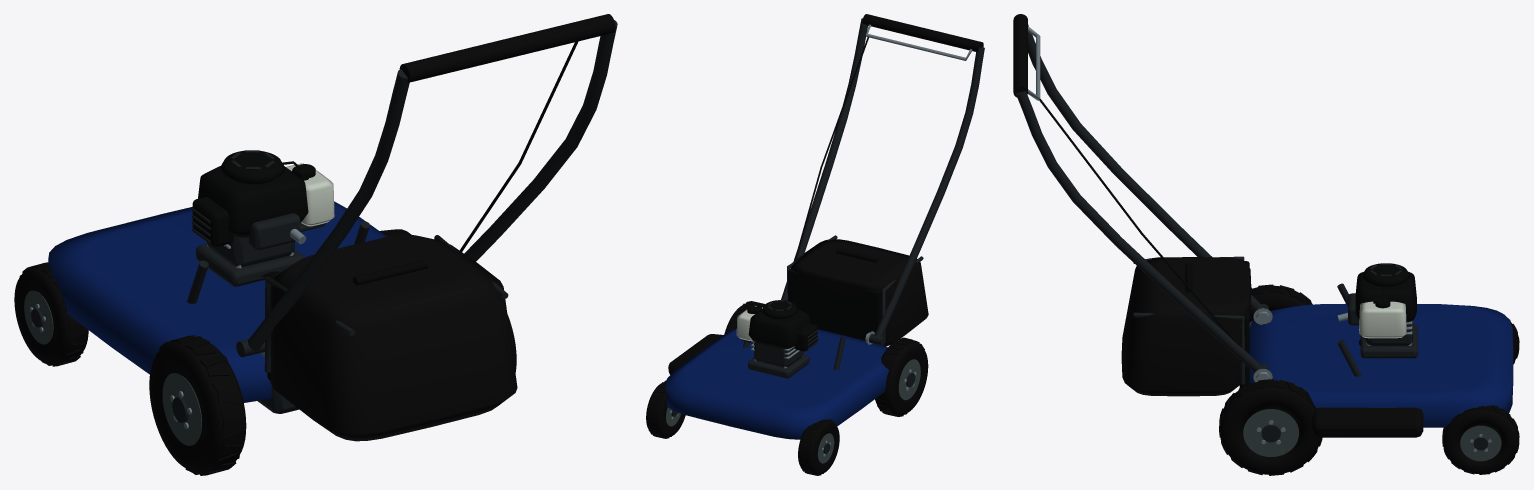
The model's file is SelfPropelledMower.gltf.
The picture shows the model from 3 angles, left to right: view 1: azimuth 30°, elevation 25°; view 2: azimuth 150°, elevation 25°; view 3: azimuth 270°, elevation 25°; orthographic projection. The views are drawn at different scales.
Visible parts, largest first — view 1: SelfPropelledMower__Body, SelfPropelledMower__Wheel_Rear_L, SelfPropelledMower__Wheel_Front_L; view 2: SelfPropelledMower__Body, SelfPropelledMower__Wheel_Rear_L, SelfPropelledMower__Wheel_Front_L, SelfPropelledMower__Wheel_Front_R; view 3: SelfPropelledMower__Body, SelfPropelledMower__Wheel_Rear_R, SelfPropelledMower__Wheel_Front_R, SelfPropelledMower__Wheel_Rear_L.
Boxes of the visible parts, x1,y1,x2,y2 form: SelfPropelledMower__Body: [48, 14, 617, 441]; SelfPropelledMower__Wheel_Rear_L: [149, 335, 246, 475]; SelfPropelledMower__Wheel_Front_L: [14, 262, 88, 366]; SelfPropelledMower__Body: [665, 14, 984, 439]; SelfPropelledMower__Wheel_Rear_L: [875, 338, 928, 416]; SelfPropelledMower__Wheel_Front_L: [798, 419, 839, 475]; SelfPropelledMower__Wheel_Front_R: [646, 380, 685, 438]; SelfPropelledMower__Body: [1013, 14, 1513, 437]; SelfPropelledMower__Wheel_Rear_R: [1219, 379, 1322, 475]; SelfPropelledMower__Wheel_Front_R: [1442, 405, 1519, 474]; SelfPropelledMower__Wheel_Rear_L: [1249, 284, 1312, 327].
Size of the model in its own units: 0.7939 by 1.2 by 1.47.
1 material, 1 textured.
